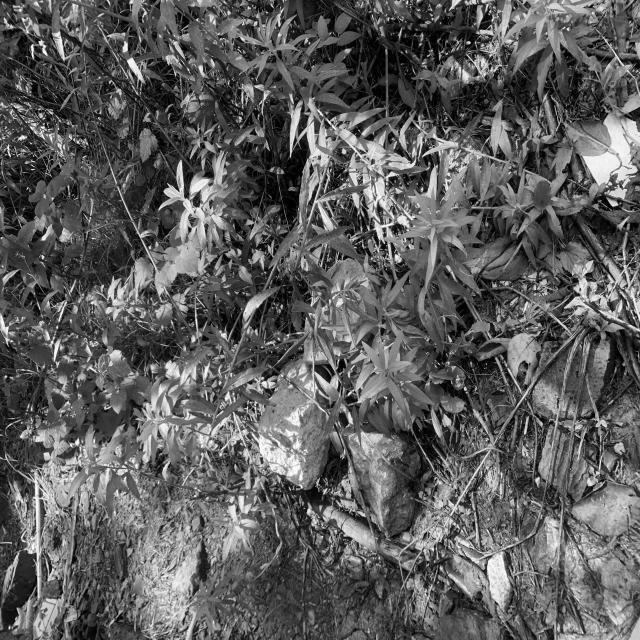Stone: (345, 431, 420, 537), (258, 379, 328, 489)
